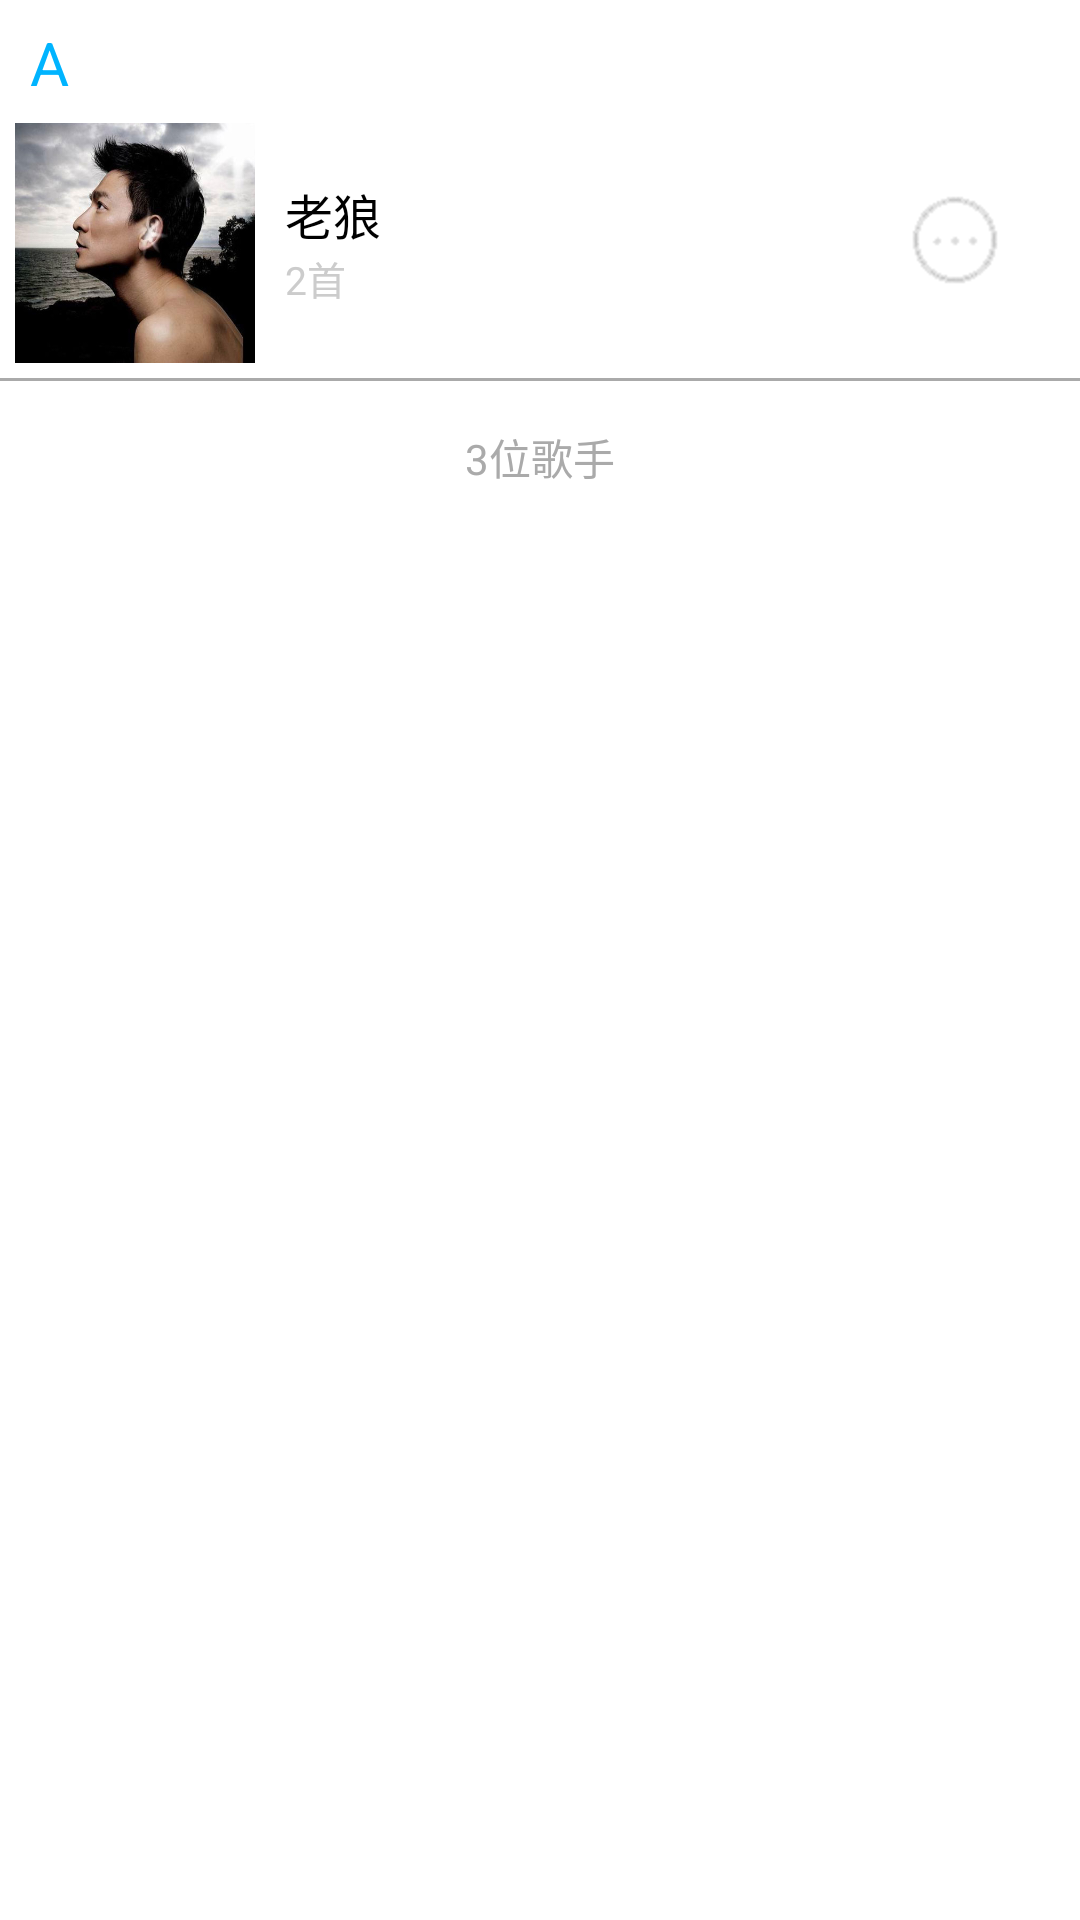

Icons on this 1080x1920 Android screen, each with its box as [left=x1, top=y1, right=x2, bottom=y2]:
singer: [left=15, top=123, right=255, bottom=363]
